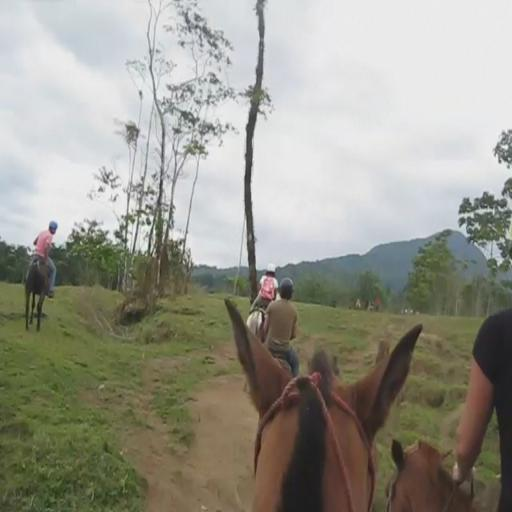horse: (226, 301, 424, 511), (383, 436, 501, 511), (246, 294, 280, 392), (23, 256, 52, 333)
